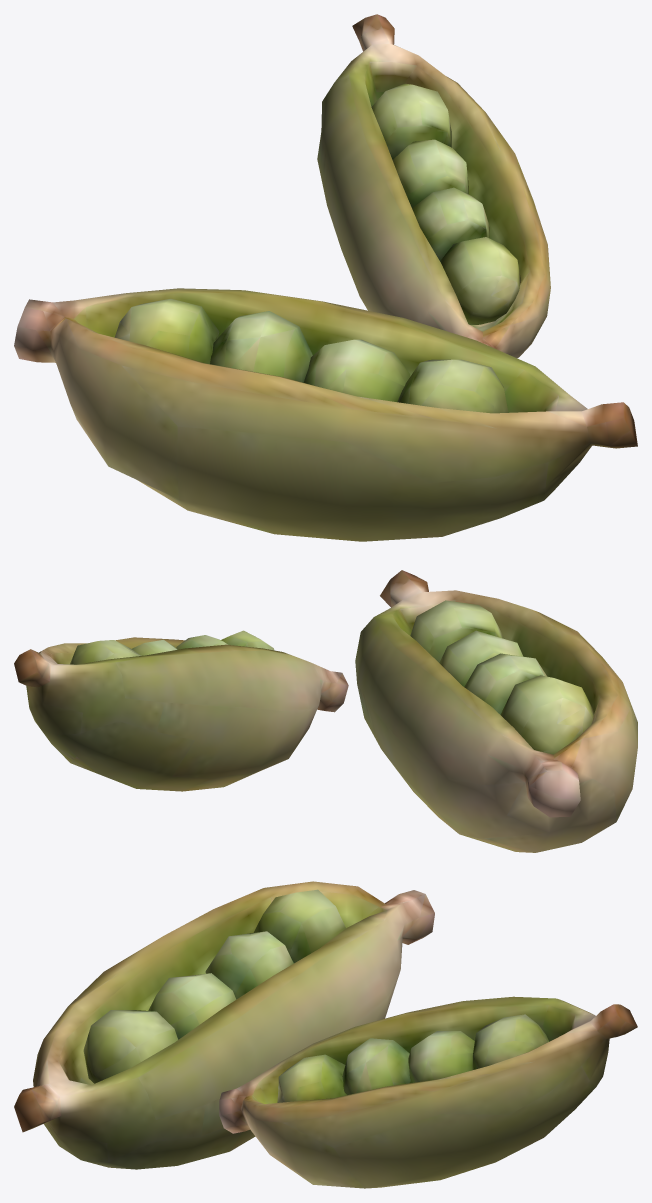
The model's file is peas.glb.
The picture shows the model from 3 angles, top to bottom: view 1: azimuth 30°, elevation 25°; view 2: azimuth 150°, elevation 25°; view 3: azimuth 270°, elevation 25°; orthographic projection. The views are drawn at different scales.
Parts seen in each view (by area): view 1: Peas; view 2: Peas; view 3: Peas.
Boxes of the visible parts, box(x1,y1,x2,y2) form: Peas: box(14, 14, 637, 541); Peas: box(14, 570, 637, 852); Peas: box(14, 881, 637, 1188).
Bounding box in the file's own units: 1.57 × 0.8067 × 1.8.
2 materials, 2 textured.
